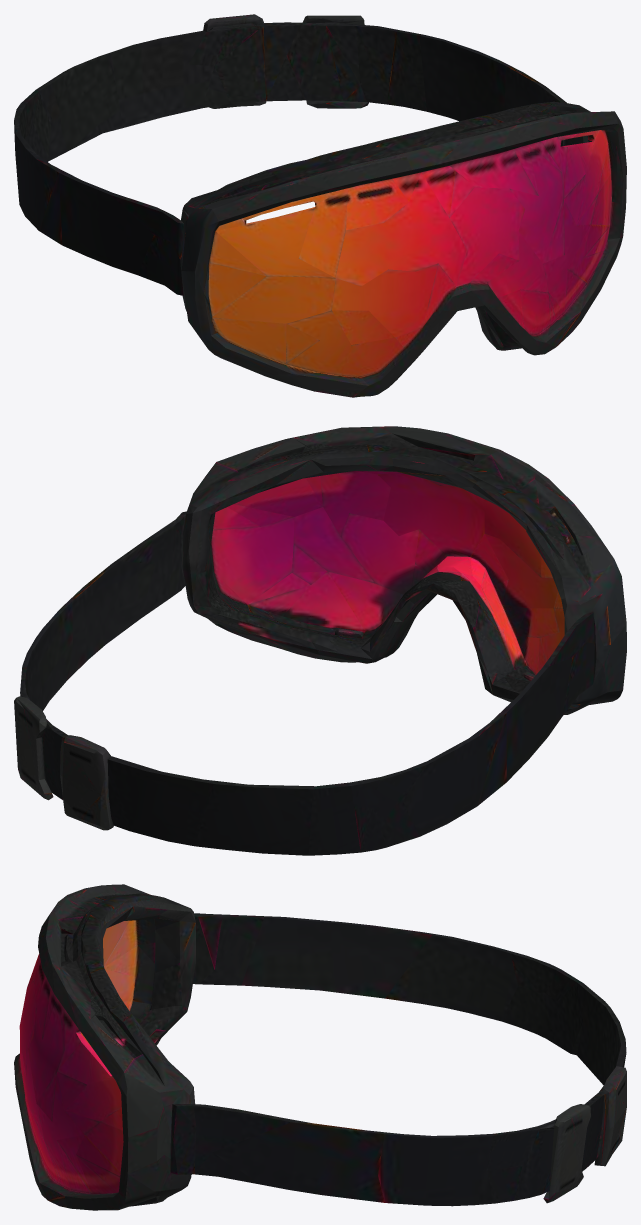
File: ski_goggles.glb
The picture shows the model from 3 angles, top to bottom: view 1: azimuth 30°, elevation 25°; view 2: azimuth 150°, elevation 25°; view 3: azimuth 270°, elevation 25°; orthographic projection. The views are drawn at different scales.
Size of the model in its own units: 1.52 by 0.7579 by 1.9.
Materials: 1 (1 with a texture image).
